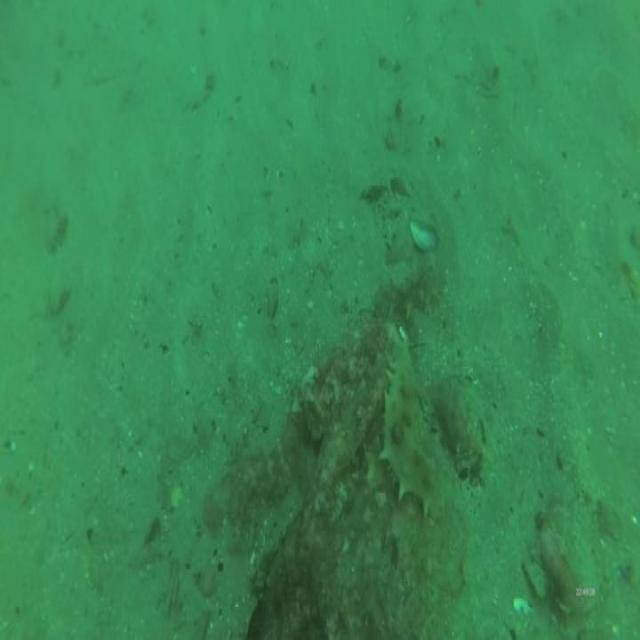holothurian: (378, 340, 458, 524), (434, 369, 487, 484), (372, 262, 441, 318)
